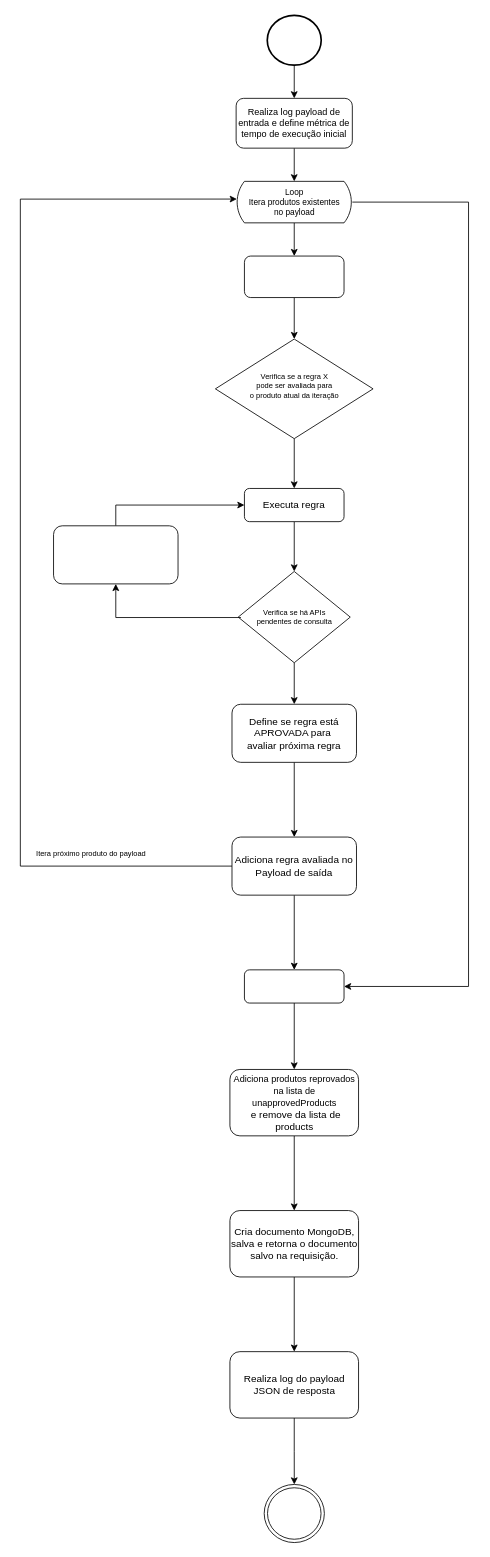
Some shapes in this 490 by 1557 pixel diagram are drawn without their labels. Here are the shapes that lost their labels. From the top down, the centre of each, then its label:
At (x=294, y=40): "Recebe payload entrada JSON".
At (x=294, y=276): "Recupera regras habilitadas por produto".
At (x=115, y=554): "Consulta API pendente e seta resultado no payload principal".
At (x=294, y=986): "Finaliza loop".
At (x=293, y=1513): "Finaliza requisição".
